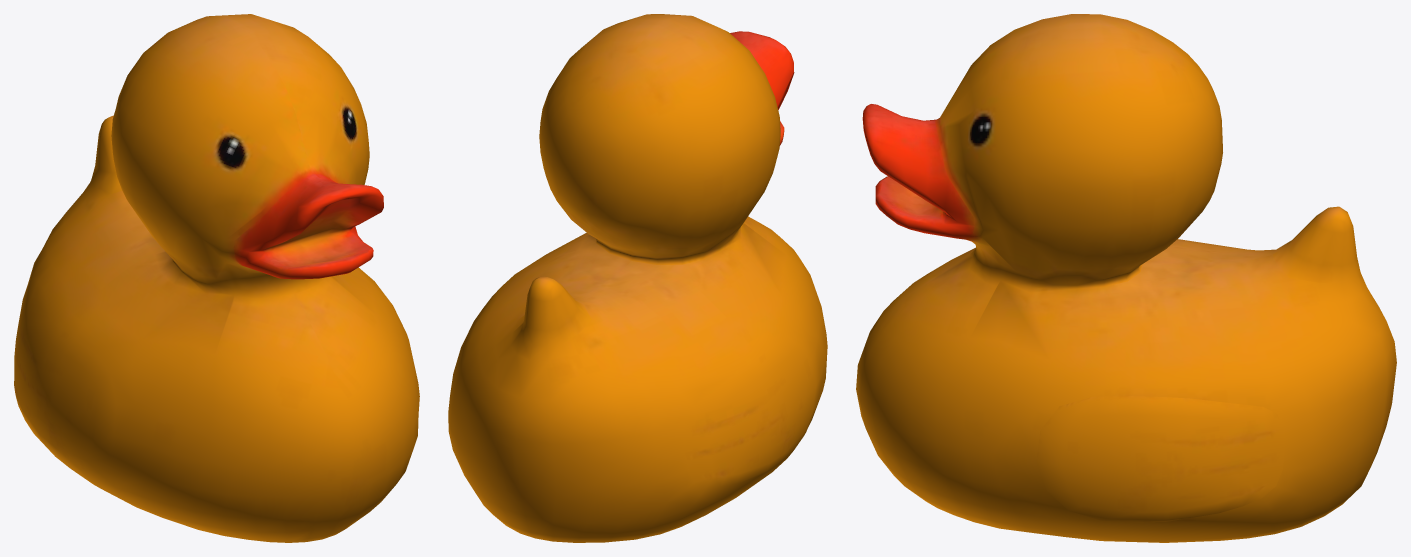
The model's file is rubber_duck.glb.
The picture shows the model from 3 angles, left to right: view 1: azimuth 30°, elevation 25°; view 2: azimuth 150°, elevation 25°; view 3: azimuth 270°, elevation 25°; orthographic projection. The views are drawn at different scales.
Parts seen in each view (by area): view 1: rubber_duck_toy; view 2: rubber_duck_toy; view 3: rubber_duck_toy.
Boxes of the visible parts, x1,y1,x2,y2 form: rubber_duck_toy: (14, 14, 419, 542); rubber_duck_toy: (448, 14, 827, 542); rubber_duck_toy: (856, 14, 1396, 542).
Size of the model in its own units: 0.2135 by 0.2855 by 0.3.
1 material, 1 textured.
